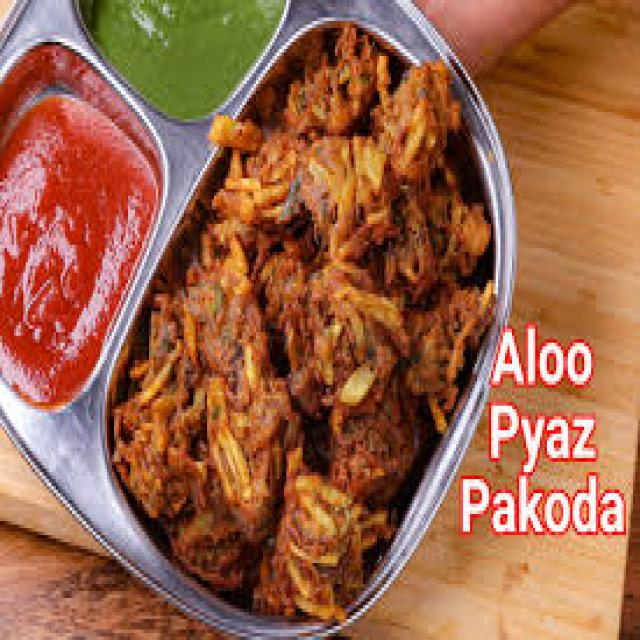BAJI: (114, 22, 503, 625)
